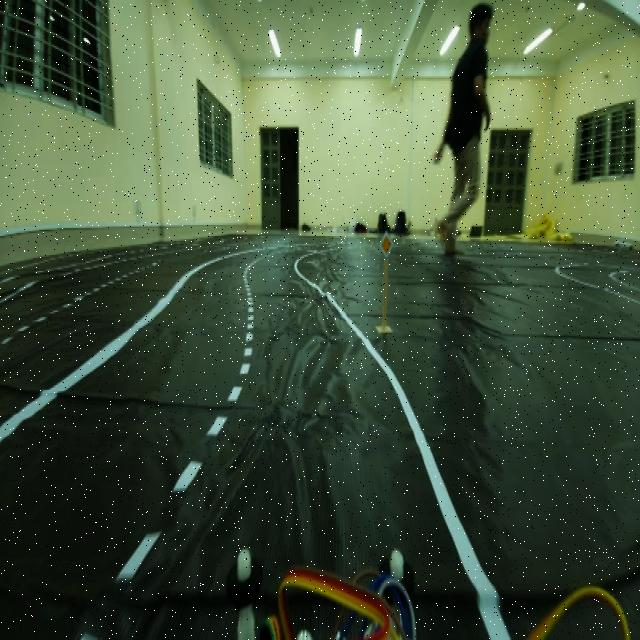priority: (377, 227, 395, 263)
